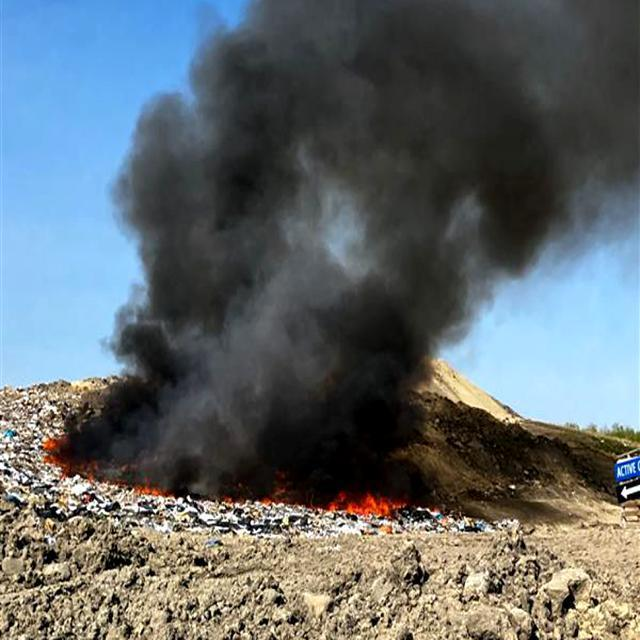Fire: (326, 482, 412, 520)
Smoke: (91, 0, 640, 496)
